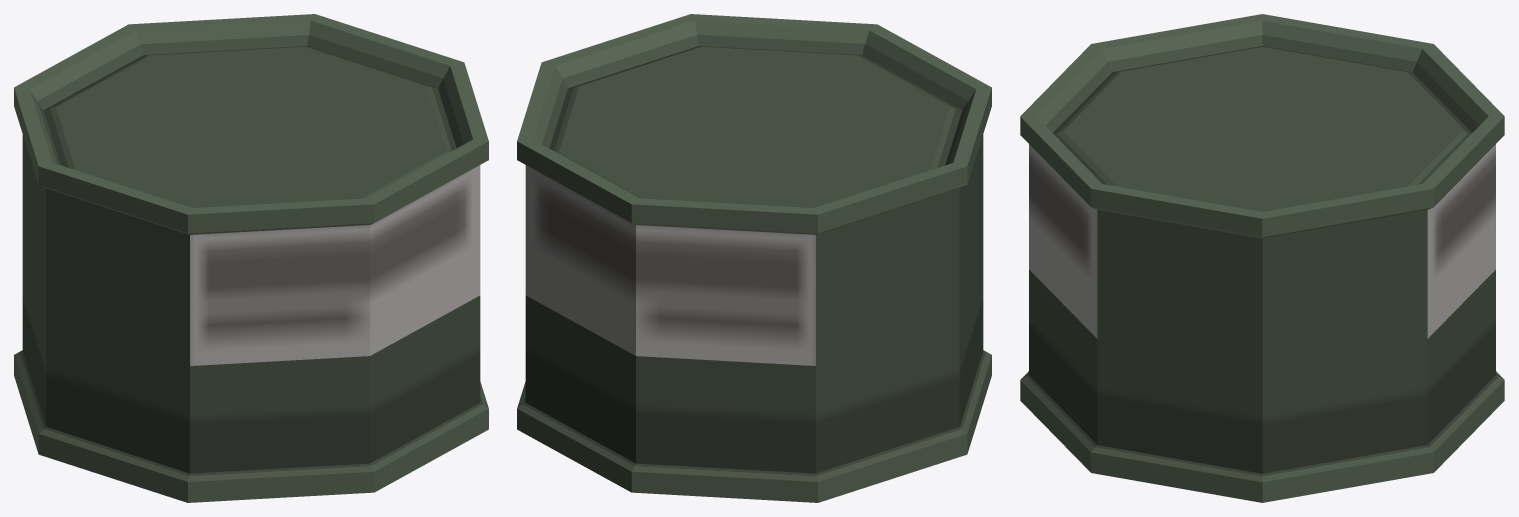
Rendered from SM_Item_Can_02.fbx.
The picture shows the model from 3 angles, left to right: view 1: azimuth 30°, elevation 25°; view 2: azimuth 150°, elevation 25°; view 3: azimuth 270°, elevation 25°; orthographic projection.
Visible parts, largest first — view 1: SM_Item_Can_02; view 2: SM_Item_Can_02; view 3: SM_Item_Can_02.
Part boxes in pixels (<box>): SM_Item_Can_02: <box>14,14,488,502</box>; SM_Item_Can_02: <box>517,14,991,502</box>; SM_Item_Can_02: <box>1020,14,1504,502</box>.
Bounding box in the file's own units: 18.19 × 11.77 × 18.19.
